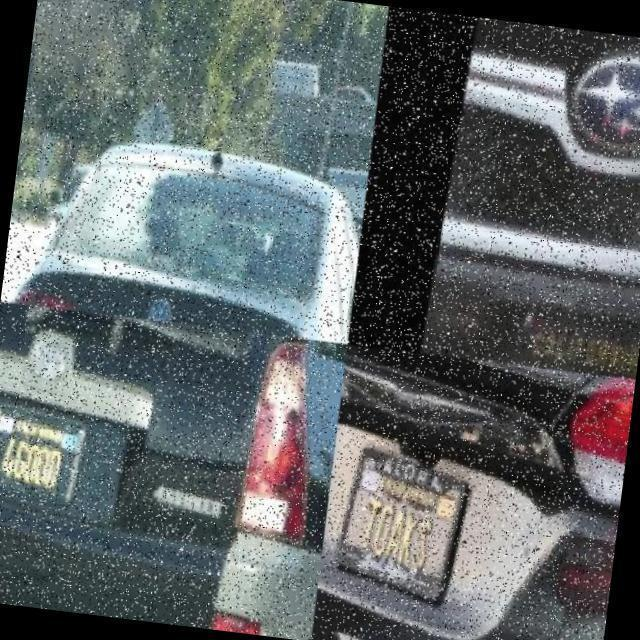license_plate: (318, 431, 474, 604), (448, 283, 640, 379), (0, 396, 86, 520)
